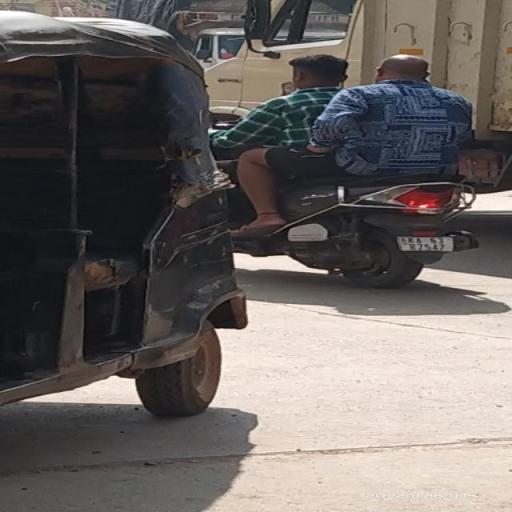bike: (212, 50, 486, 291)
numberplate: (398, 235, 456, 252)
withouthelmet: (288, 55, 346, 87), (382, 54, 427, 82)
